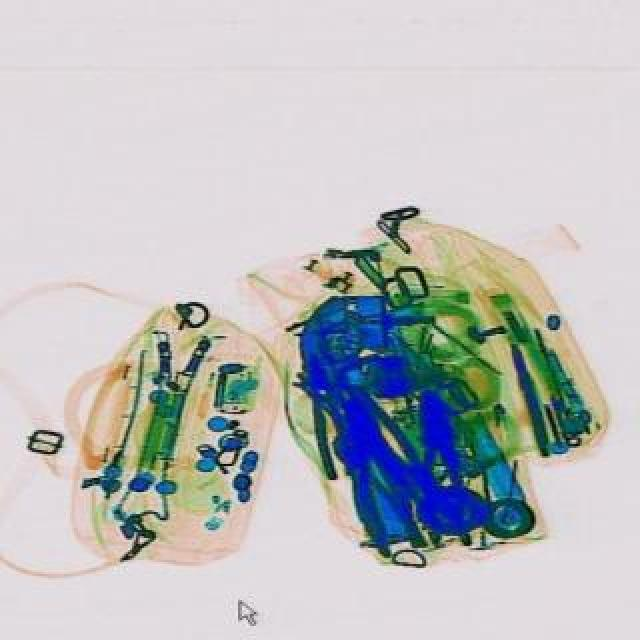wrench: (314, 422, 426, 566), (284, 348, 368, 484), (406, 388, 470, 548)
